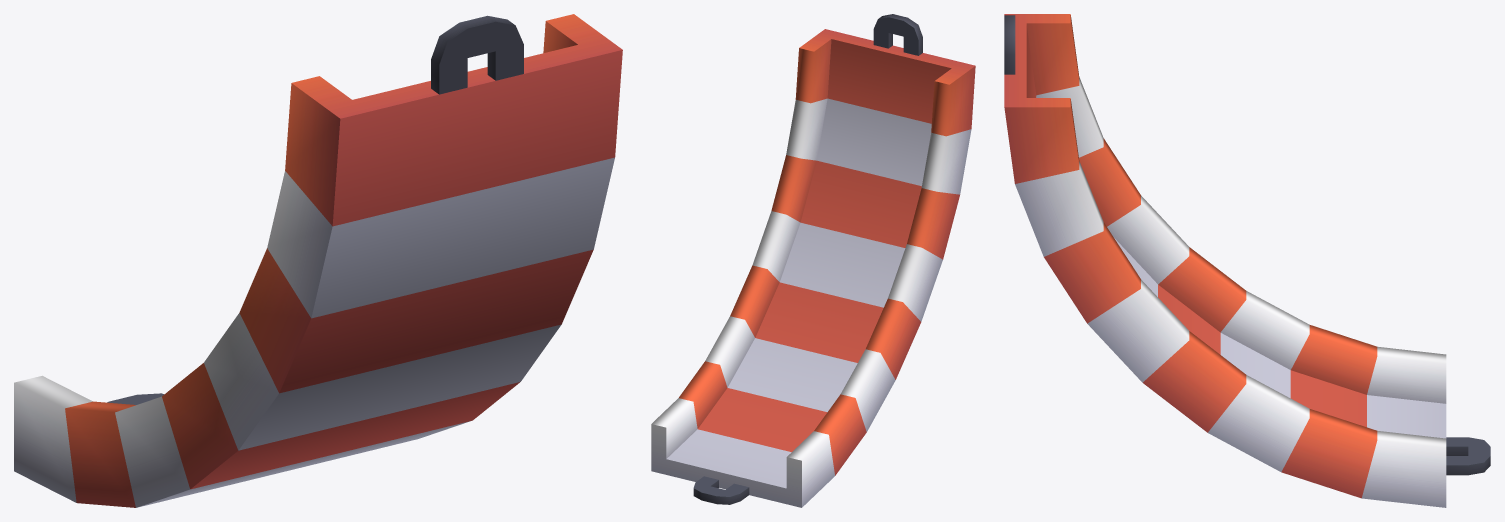
Rendered from kenney-toy-car-track-striped-narrow-straight-bend.glb.
The picture shows the model from 3 angles, left to right: view 1: azimuth 30°, elevation 25°; view 2: azimuth 150°, elevation 25°; view 3: azimuth 270°, elevation 25°; orthographic projection. The views are drawn at different scales.
Parts seen in each view (by area): view 1: track-striped-narrow-straight-bend; view 2: track-striped-narrow-straight-bend; view 3: track-striped-narrow-straight-bend.
Boxes of the visible parts, x1=… form: track-striped-narrow-straight-bend: x1=14, y1=14, x2=622, y2=507; track-striped-narrow-straight-bend: x1=651, y1=14, x2=975, y2=507; track-striped-narrow-straight-bend: x1=1004, y1=14, x2=1490, y2=507.
Size of the model in its own units: 1 by 2.2 by 2.2.
1 material, 1 textured.
